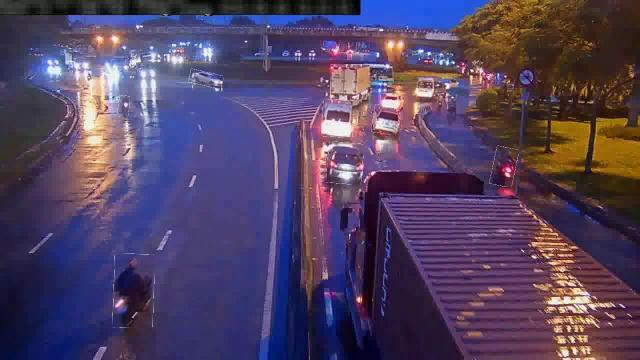Bike: (114, 254, 154, 328), (491, 147, 517, 187), (118, 95, 130, 117), (447, 94, 457, 114)
Bus: (322, 99, 354, 137)
Car: (327, 143, 363, 185), (372, 105, 400, 135), (189, 70, 223, 88), (380, 94, 406, 110)
Truck: (330, 65, 370, 105)
